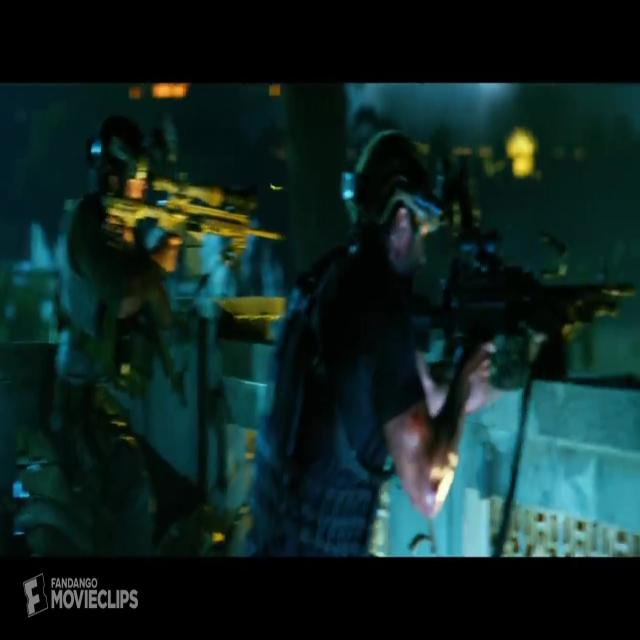Weapon: (343, 162, 640, 408), (87, 139, 308, 302)
